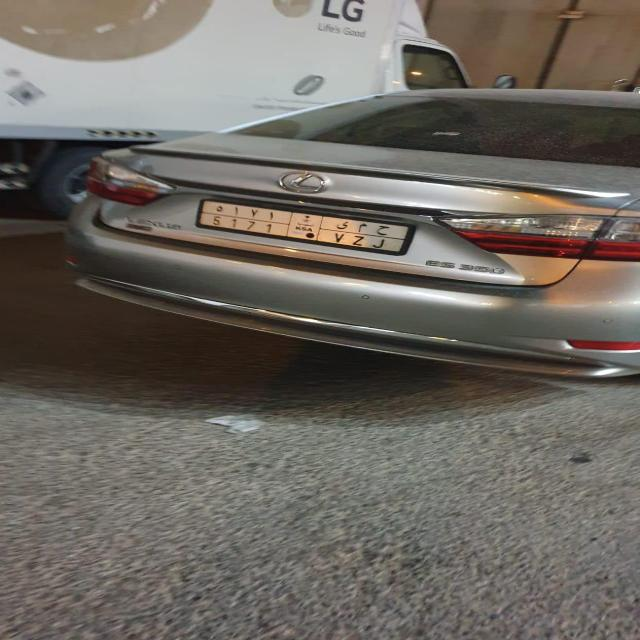license_plate: (189, 198, 418, 256)
